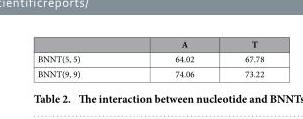table: (36, 37, 263, 79)
table column: (36, 37, 127, 79), (127, 37, 218, 79), (218, 37, 263, 79)
table column header: (36, 37, 263, 51)
table row: (36, 37, 263, 51), (36, 51, 263, 65), (36, 65, 263, 79)
